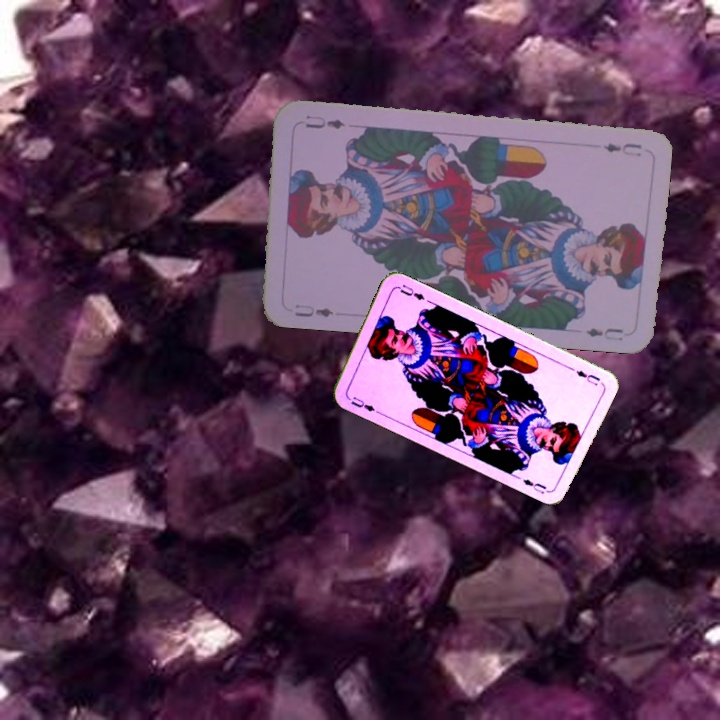EU: (290, 300, 336, 320), (599, 139, 644, 159), (347, 393, 381, 416), (572, 366, 603, 388)
